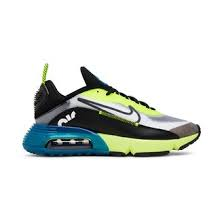nike: (76, 92, 146, 126)
